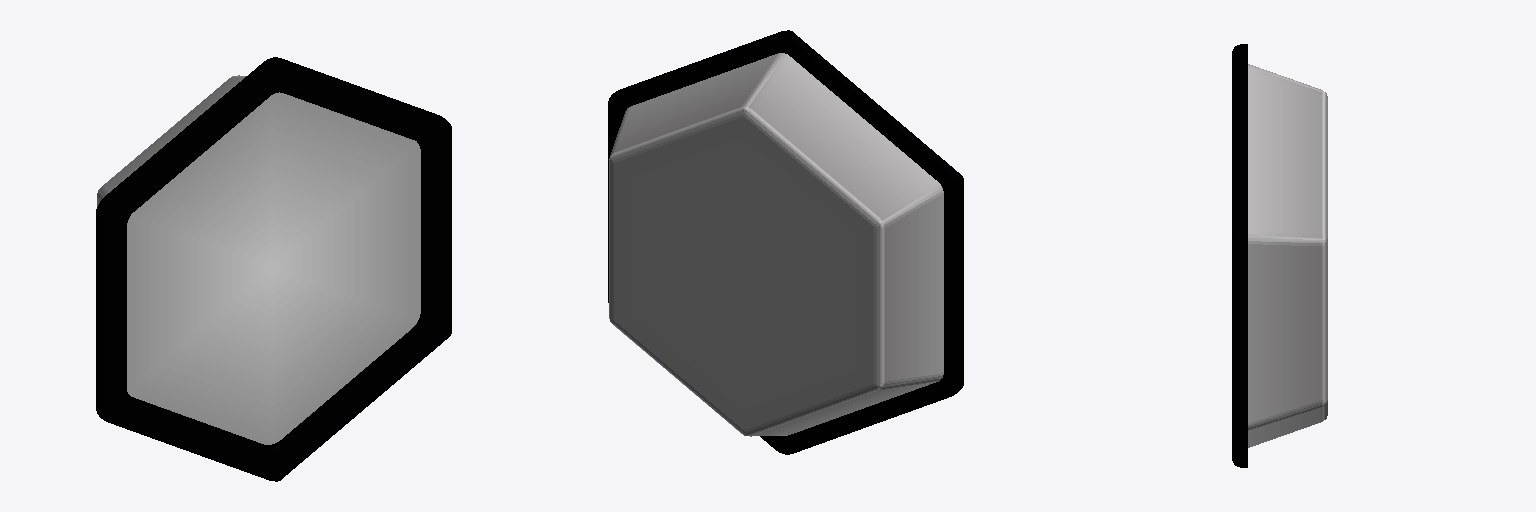
3 renders of one model, left to right at view 1: azimuth 30°, elevation 25°; view 2: azimuth 150°, elevation 25°; view 3: azimuth 270°, elevation 25°, orthographic.
Visible parts, largest first — view 1: Drumpad_LOD0_Cylinder.008; view 2: Drumpad_LOD0_Cylinder.008; view 3: Drumpad_LOD0_Cylinder.008.
Boxes of the visible parts, x1,y1,x2,y2 form: Drumpad_LOD0_Cylinder.008: [96, 57, 451, 481]; Drumpad_LOD0_Cylinder.008: [608, 30, 963, 454]; Drumpad_LOD0_Cylinder.008: [1232, 44, 1327, 467].
Bounding box in the file's own units: 0.3845 × 0.4383 × 0.0911.
Materials: 2 (1 with a texture image).